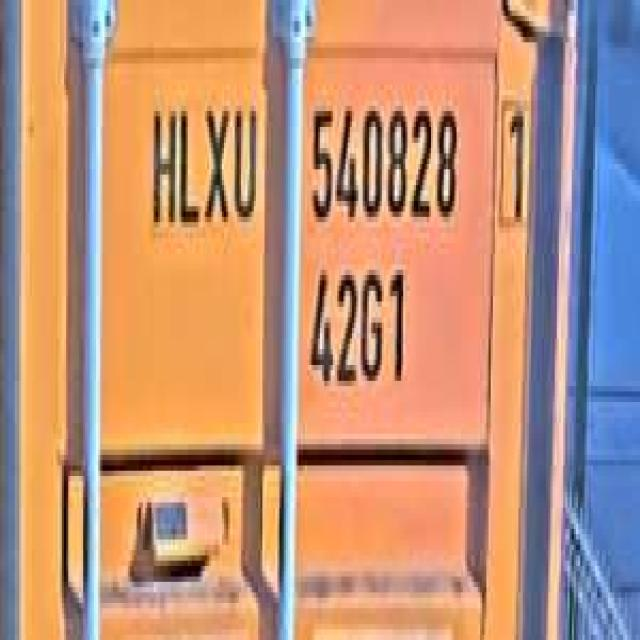dv: (493, 79, 533, 238)
owner: (145, 85, 260, 238)
serial: (305, 79, 463, 238)
size: (305, 254, 410, 402)
